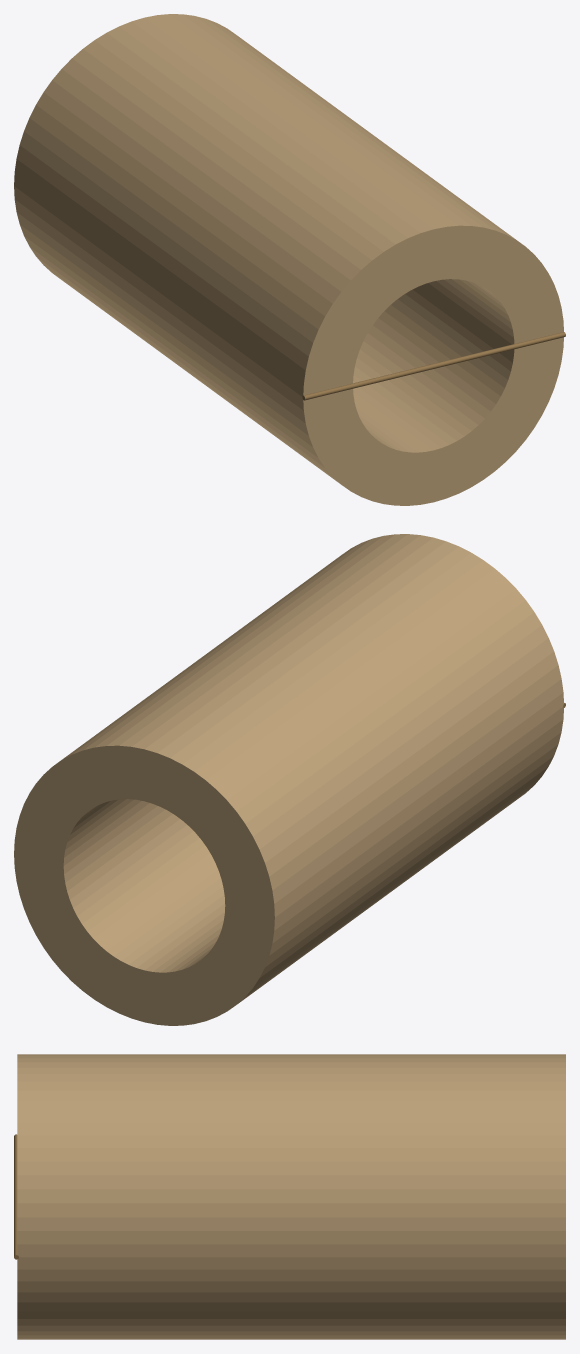
File: paper.glb
3 renders of one model, top to bottom at view 1: azimuth 30°, elevation 25°; view 2: azimuth 150°, elevation 25°; view 3: azimuth 270°, elevation 25°, orthographic. The views are drawn at different scales.
Visible parts, largest first — view 1: KraftStripRoll, PaperRollWitness; view 2: KraftStripRoll; view 3: KraftStripRoll, PaperRollWitness.
Part boxes in pixels (left/top/right/bottom): KraftStripRoll: left=14, top=14, right=563, bottom=505; PaperRollWitness: left=302, top=332, right=565, bottom=400; KraftStripRoll: left=14, top=534, right=563, bottom=1025; KraftStripRoll: left=17, top=1054, right=565, bottom=1339; PaperRollWitness: left=14, top=1134, right=18, bottom=1259.
Size of what is drawn, in the model's own units: 0.0581 by 0.0581 by 0.1124.
